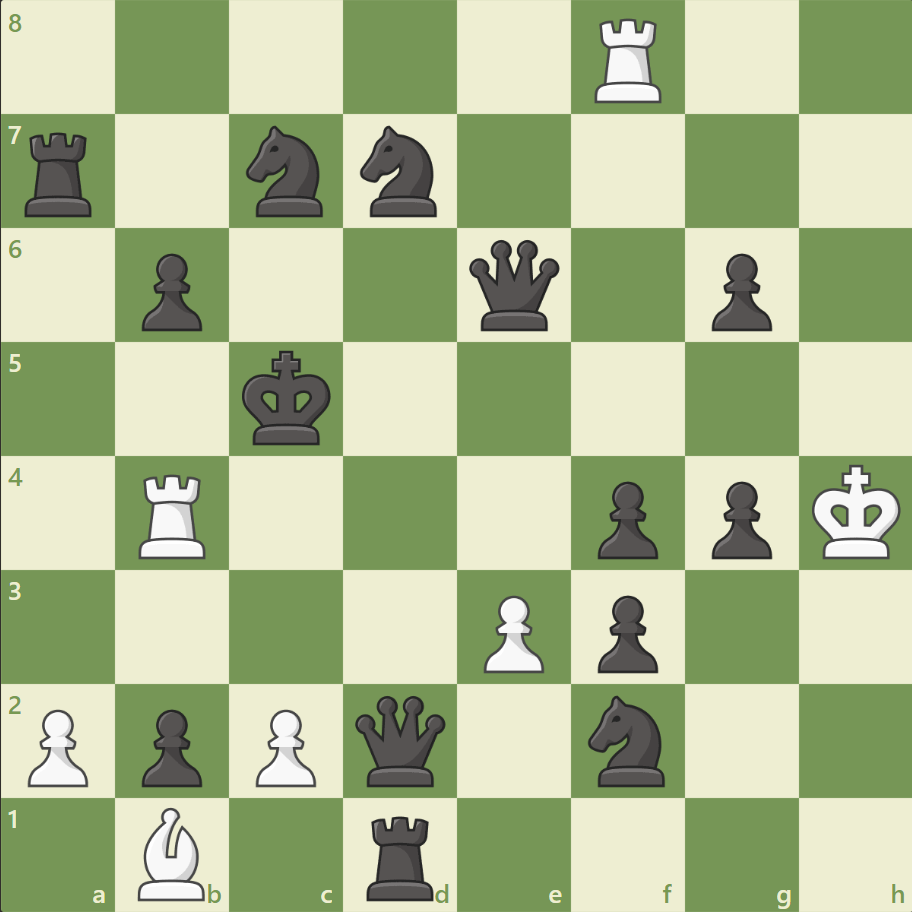B: (131, 801, 215, 904)
K: (806, 458, 906, 566)
P: (474, 586, 549, 677), (20, 700, 95, 791), (247, 700, 322, 791)
R: (587, 12, 670, 109), (133, 466, 215, 563)
k: (238, 344, 338, 452)
n: (351, 121, 449, 223), (579, 688, 676, 791), (238, 121, 335, 223)
p: (133, 246, 208, 337), (701, 246, 776, 337), (701, 473, 776, 564), (133, 700, 208, 791), (588, 473, 662, 564), (588, 586, 662, 677)
q: (464, 236, 563, 335), (351, 690, 450, 789)
r: (19, 125, 102, 222), (360, 806, 442, 904)
